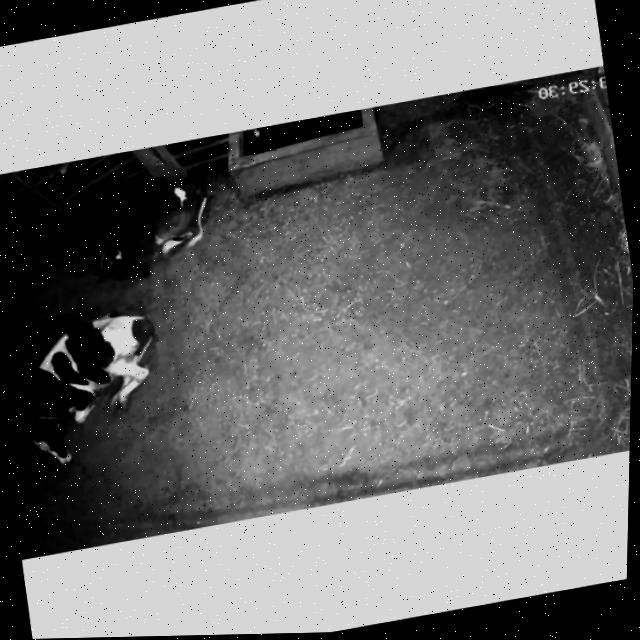lay: (1, 283, 188, 486), (52, 151, 237, 300)
